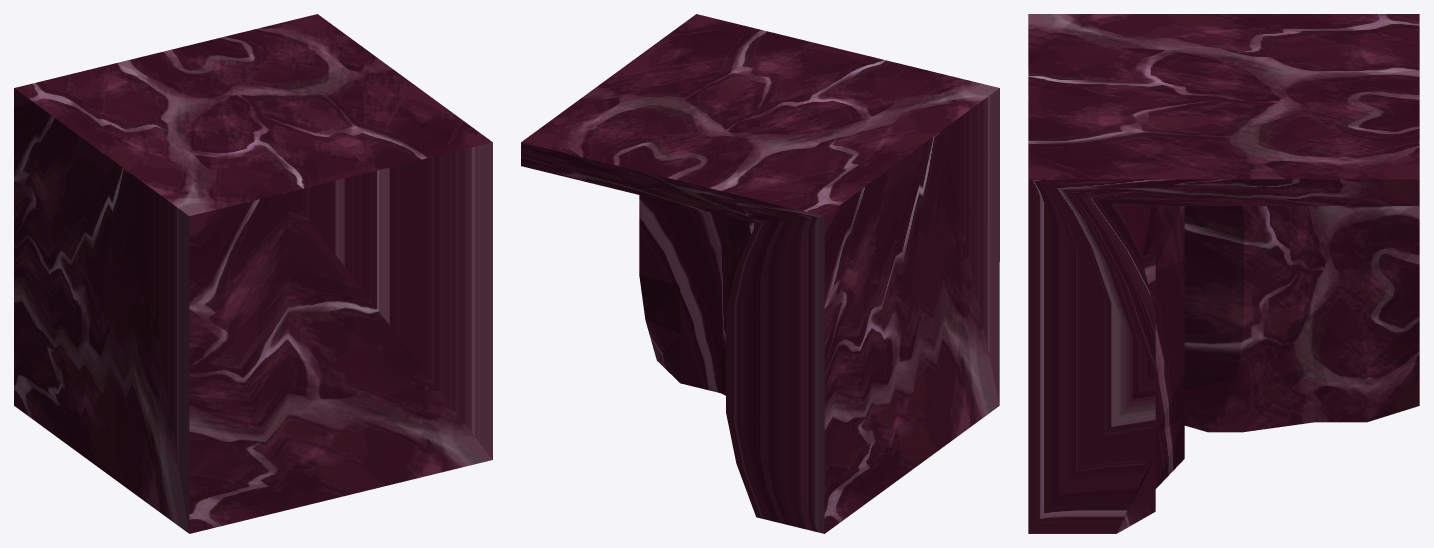
File: EspacioPornoEsquinaCierreInteriorBajoNI.gltf
3 views of the same model, side by side, from view 1: azimuth 30°, elevation 25°; view 2: azimuth 150°, elevation 25°; view 3: azimuth 270°, elevation 25° (orthographic). The views are drawn at different scales.
Parts seen in each view (by area): view 1: Cubo.5; view 2: Cubo.5; view 3: Cubo.5.
Boxes of the visible parts, x1,y1,x2,y2 form: Cubo.5: (14,14,492,533); Cubo.5: (521,14,999,533); Cubo.5: (1028,14,1419,533).
Bounding box in the file's own units: 2 × 2 × 2.
1 material, 1 textured.
